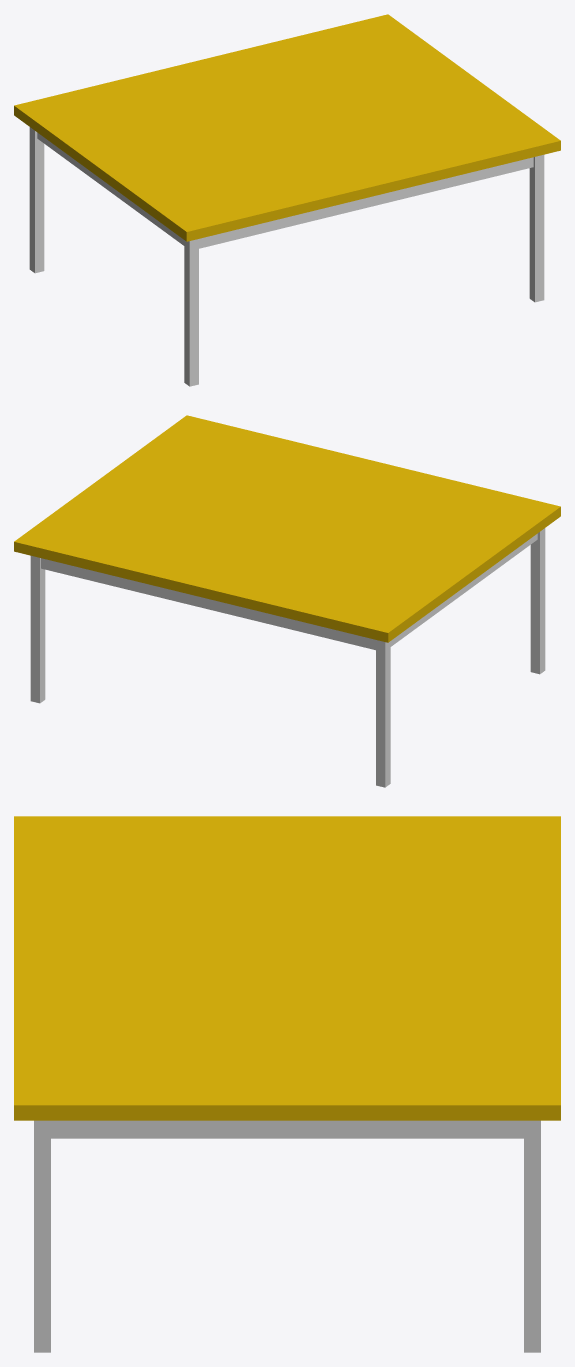
The model's file is table.gltf.
The picture shows the model from 3 angles, top to bottom: view 1: azimuth 30°, elevation 25°; view 2: azimuth 150°, elevation 25°; view 3: azimuth 270°, elevation 25°; orthographic projection. The views are drawn at different scales.
Visible parts, largest first — view 1: Cube, Cube.007, Cube.002, Cube.003, Cube.001, Cube.005; view 2: Cube, Cube.008, Cube.004, Cube.001, Cube.003, Cube.005; view 3: Cube, Cube.006, Cube.002, Cube.004.
Boxes of the visible parts, x1=… form: Cube: x1=14, y1=14, x2=560, y2=241; Cube.007: x1=199, y1=157, x2=533, y2=248; Cube.002: x1=529, y1=154, x2=544, y2=302; Cube.003: x1=29, y1=127, x2=44, y2=273; Cube.001: x1=184, y1=239, x2=198, y2=386; Cube.005: x1=37, y1=132, x2=184, y2=245; Cube: x1=14, y1=415, x2=560, y2=642; Cube.008: x1=41, y1=558, x2=375, y2=650; Cube.004: x1=30, y1=555, x2=45, y2=703; Cube.001: x1=530, y1=528, x2=545, y2=674; Cube.003: x1=376, y1=640, x2=390, y2=787; Cube.005: x1=390, y1=533, x2=537, y2=646; Cube: x1=14, y1=816, x2=560, y2=1120; Cube.006: x1=51, y1=1120, x2=523, y2=1138; Cube.002: x1=34, y1=1120, x2=50, y2=1352; Cube.004: x1=524, y1=1120, x2=540, y2=1352.
Bounding box in the file's own units: 2 × 0.825 × 1.6.
